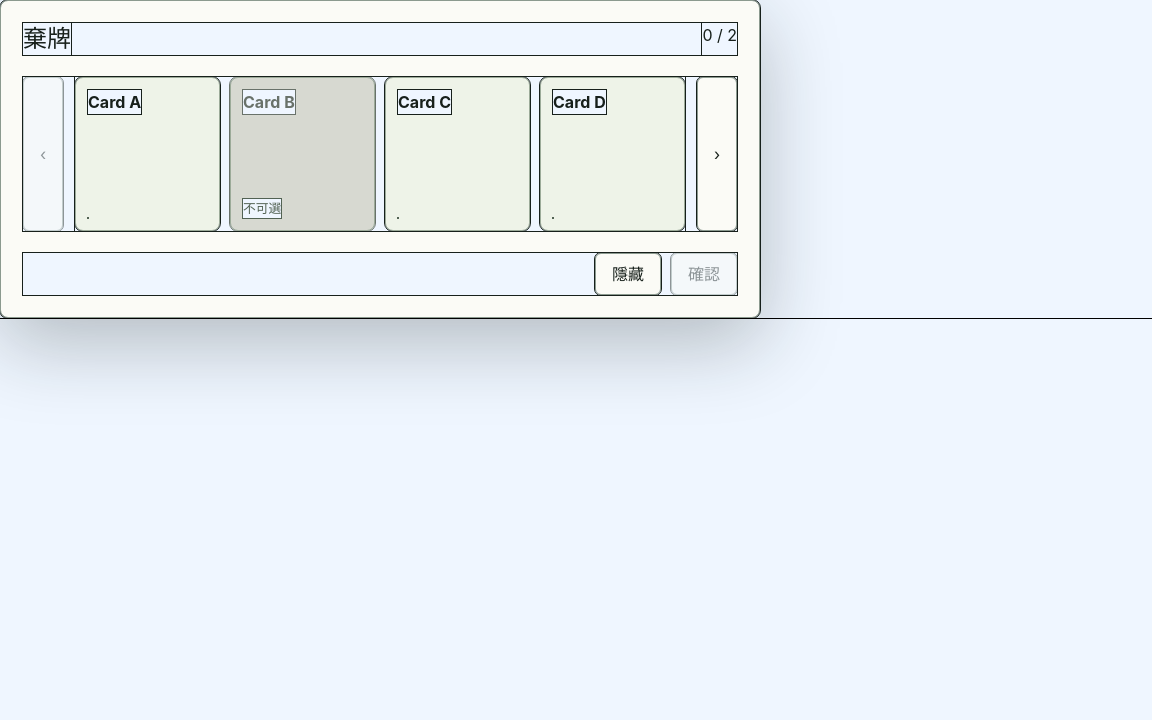
it: CardSelectorModal › requires exact selection count when configured
The image size is (1152, 720).
Expected: the button "確認" is disabled, [671, 253, 737, 295]
Click the button with class "selector-card" showing "Card A": (148, 154) [75, 77, 220, 231]
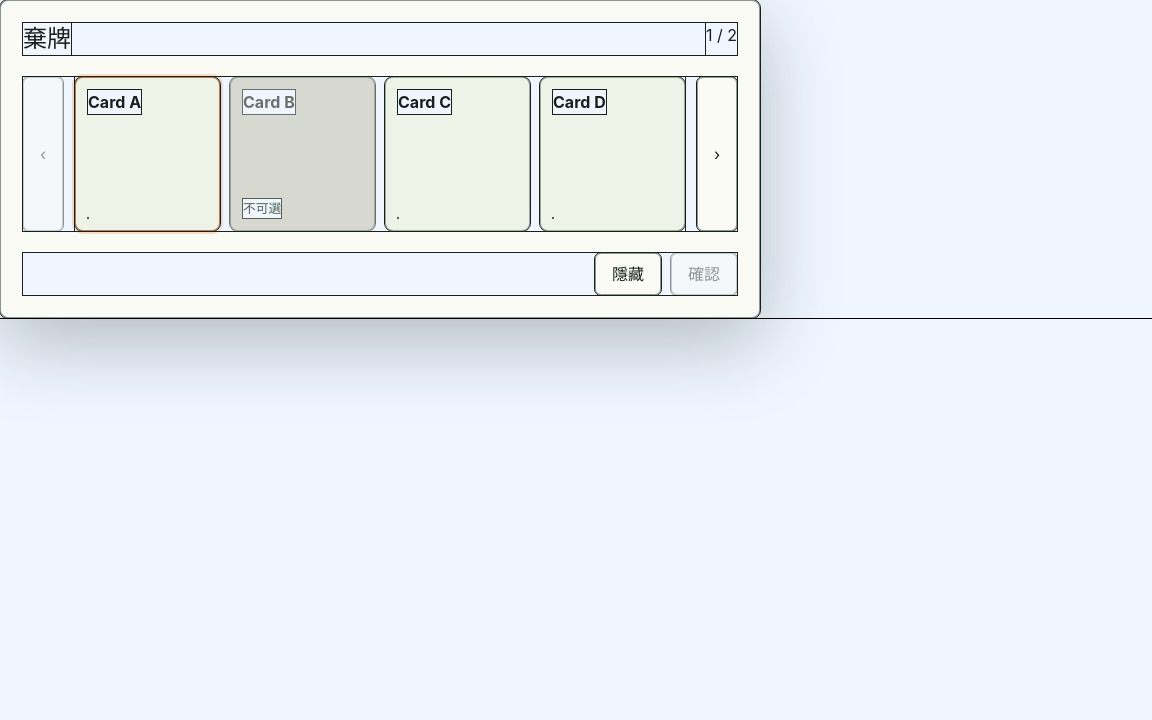
Expected: the button "確認" is disabled, [671, 253, 737, 295]
Click the button with class "selector-card" showing "Card C": (458, 154) [385, 77, 530, 231]
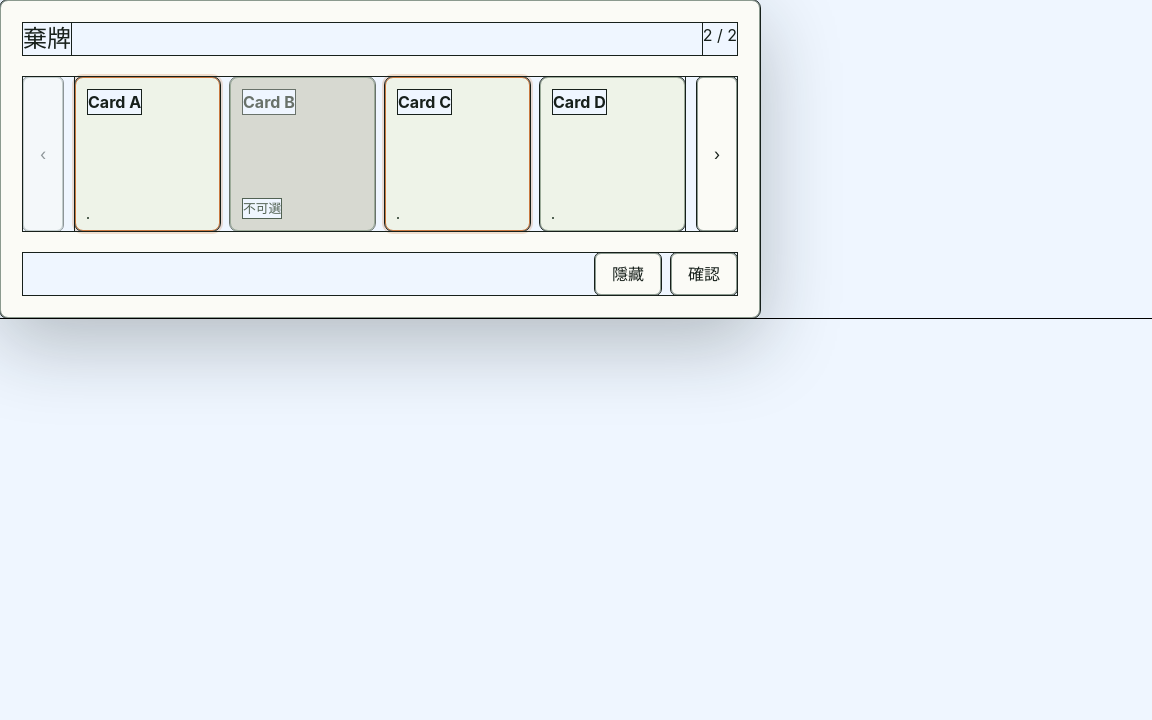
Expected: the button "確認" is enabled, [671, 253, 737, 295]
